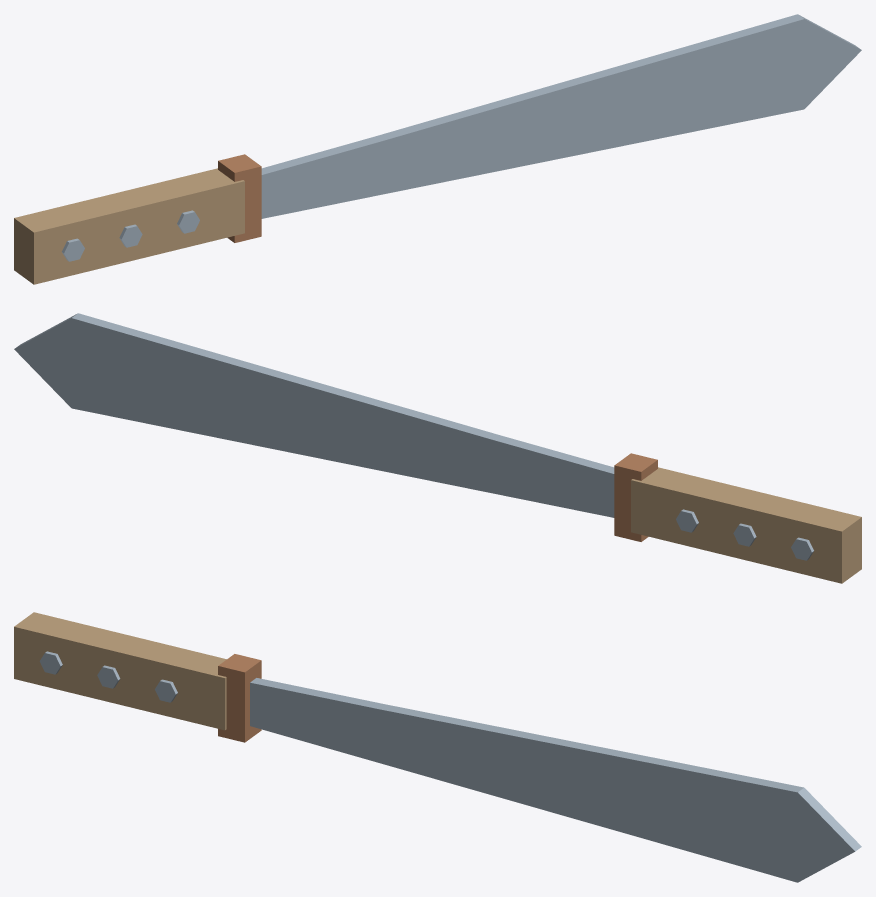
The model's file is wipe-day-survival-island-machete-07664857__27489.glb.
3 renders of one model, top to bottom at view 1: azimuth 30°, elevation 25°; view 2: azimuth 150°, elevation 25°; view 3: azimuth 330°, elevation 25°, orthographic.
Parts seen in each view (by area): view 1: machete; view 2: machete; view 3: machete.
Part boxes in pixels (x1,y1,x2,y2): machete: (14,14,861,284); machete: (14,313,861,583); machete: (14,612,861,882).
Bounding box in the file's own units: 0.87 × 0.09 × 0.044.
